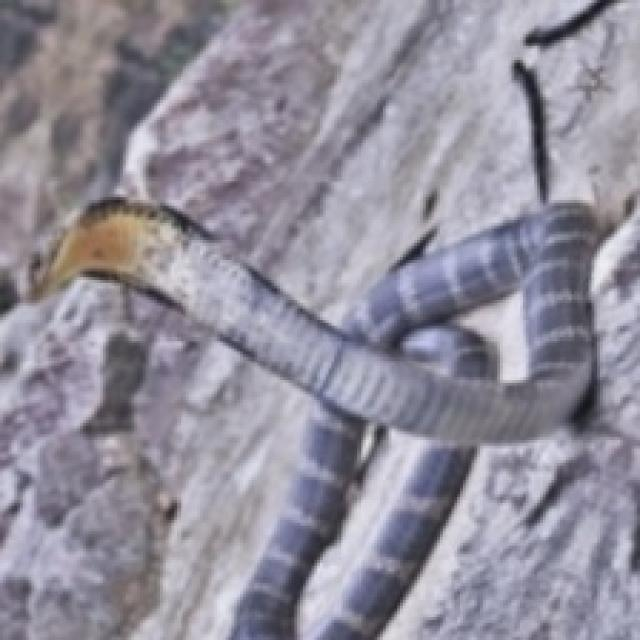king cobra: (40, 197, 591, 637), (383, 286, 529, 383)
